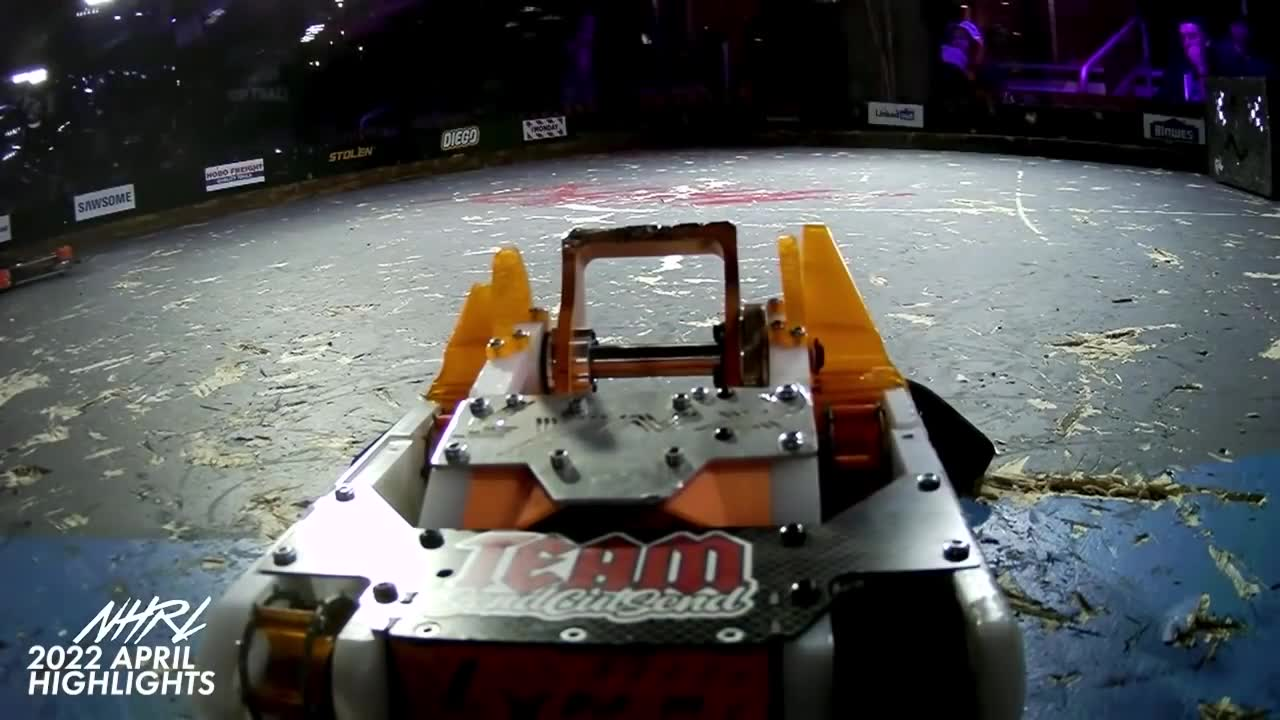combatbot: (216, 248, 1027, 717), (1, 243, 80, 292)
housebot: (1206, 79, 1280, 199)
